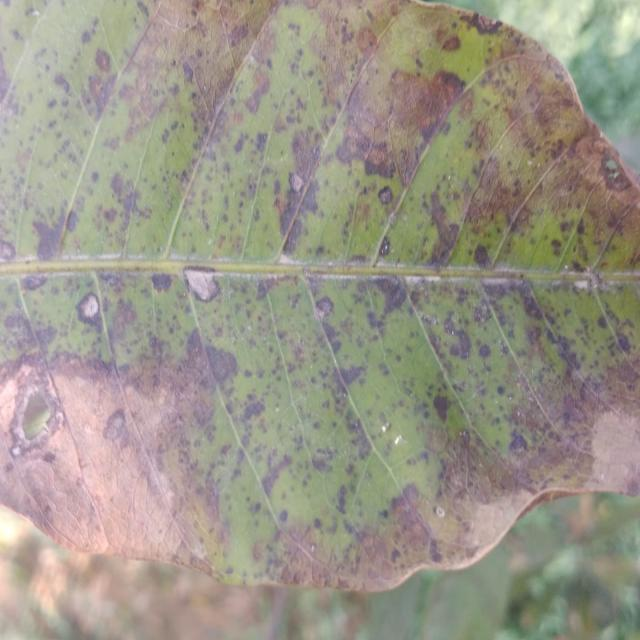Bacterial Cancer: (13, 369, 84, 494), (143, 471, 220, 568)
Powdery Mildew: (402, 477, 490, 553), (79, 290, 102, 323)
black die: (202, 335, 285, 474), (183, 261, 222, 306), (593, 151, 632, 196), (33, 215, 70, 261), (257, 451, 295, 495), (206, 341, 241, 384), (375, 272, 410, 314), (459, 9, 502, 40), (102, 407, 133, 447), (238, 397, 267, 424), (77, 293, 99, 324), (313, 295, 337, 320), (456, 329, 473, 360), (440, 34, 463, 54), (340, 367, 364, 385), (22, 275, 47, 291), (434, 396, 449, 421), (181, 59, 196, 83), (510, 430, 527, 451), (95, 49, 110, 72), (152, 274, 171, 291), (0, 240, 15, 261), (475, 244, 489, 266), (378, 185, 393, 204), (337, 485, 346, 514), (618, 333, 630, 353), (234, 135, 245, 154), (380, 236, 389, 257), (495, 384, 507, 397), (479, 344, 490, 358), (279, 510, 288, 524), (598, 316, 607, 328), (314, 518, 321, 529)
